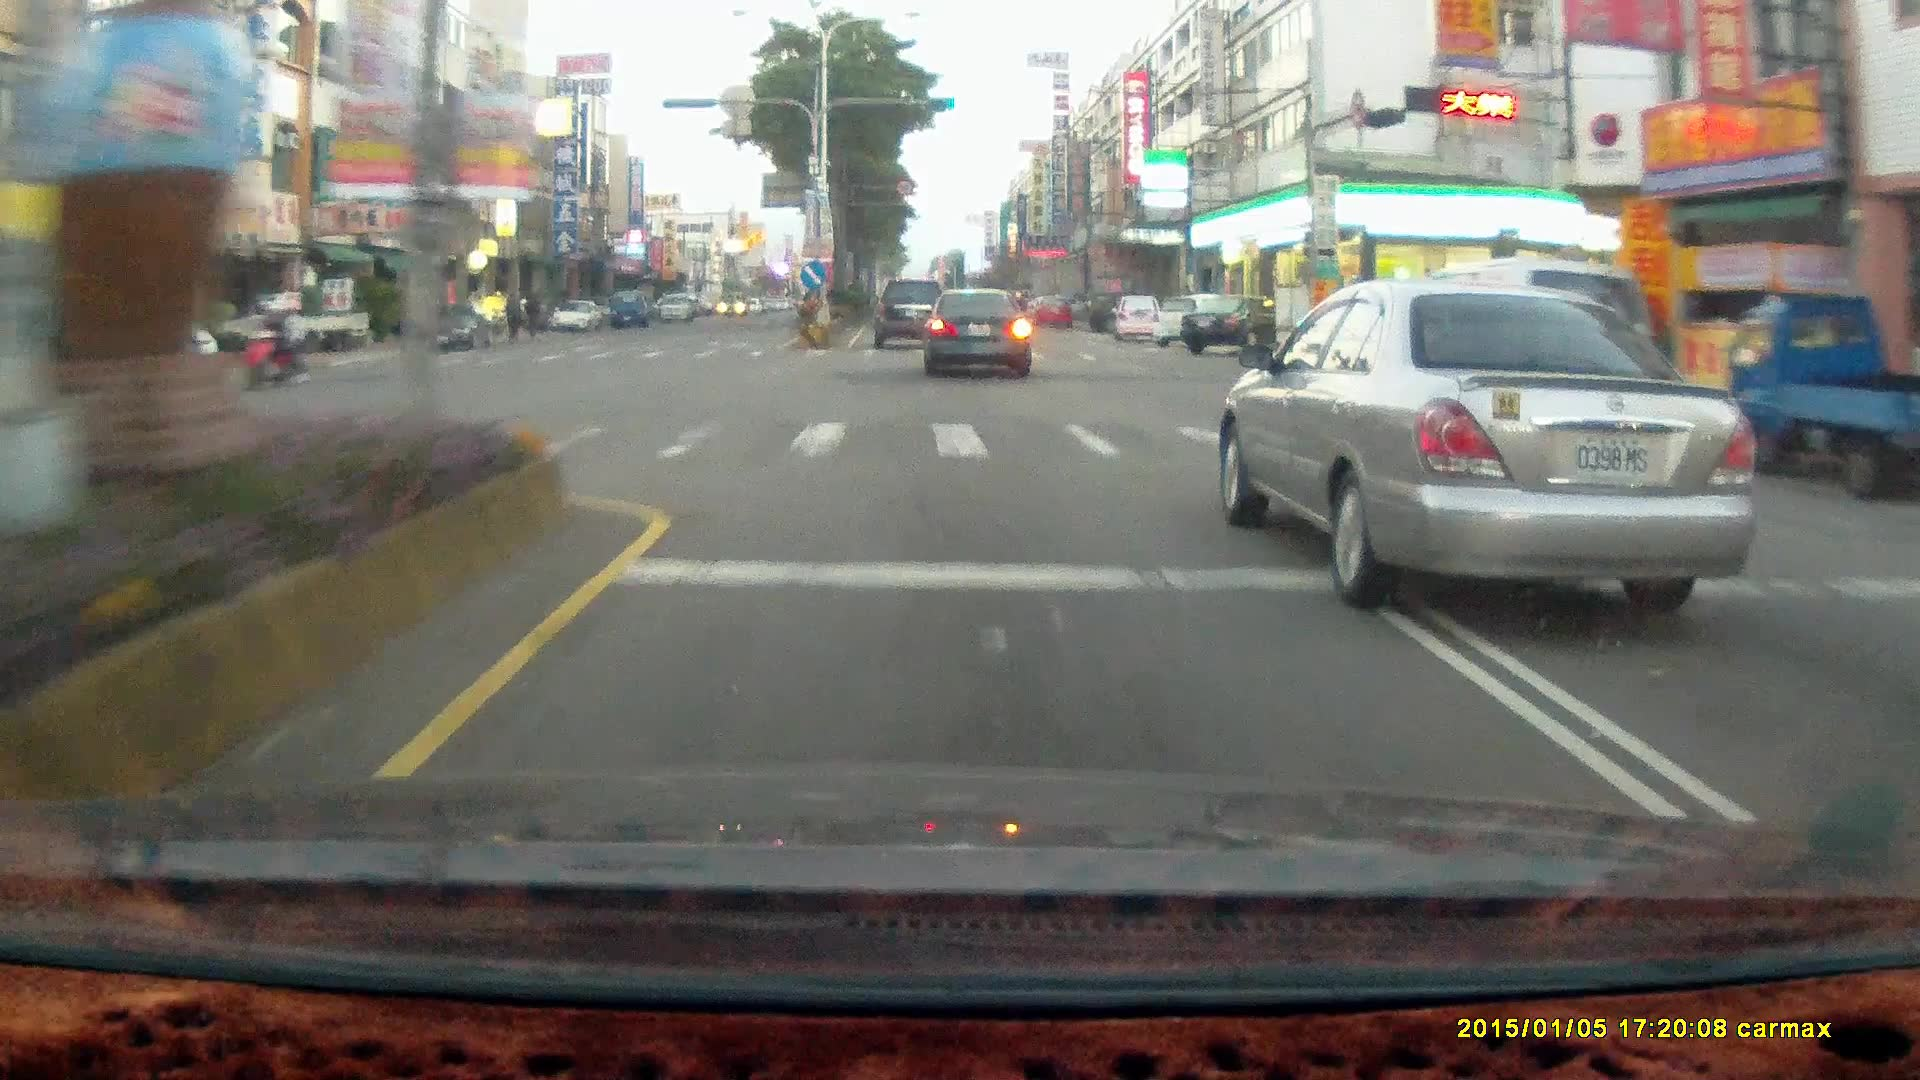pedestrian: (522, 283, 544, 337), (500, 287, 522, 340), (501, 288, 523, 340), (521, 288, 541, 341)
rider: (235, 295, 311, 388)
vehicle: (1219, 280, 1757, 600), (1369, 258, 1666, 451), (1354, 258, 1651, 450), (1723, 291, 1920, 505), (1731, 292, 1920, 502), (25, 304, 197, 379), (236, 292, 376, 365), (924, 290, 1034, 382), (211, 293, 368, 356), (922, 285, 1029, 377), (1179, 292, 1294, 354), (1180, 294, 1280, 356), (872, 277, 947, 350), (871, 278, 947, 349), (1150, 291, 1232, 346), (417, 303, 498, 354), (418, 310, 492, 349), (1114, 296, 1168, 348), (1107, 293, 1163, 342), (1081, 288, 1144, 330), (548, 299, 605, 336), (549, 296, 600, 328), (1030, 293, 1070, 326), (609, 290, 646, 325), (650, 291, 684, 318)
